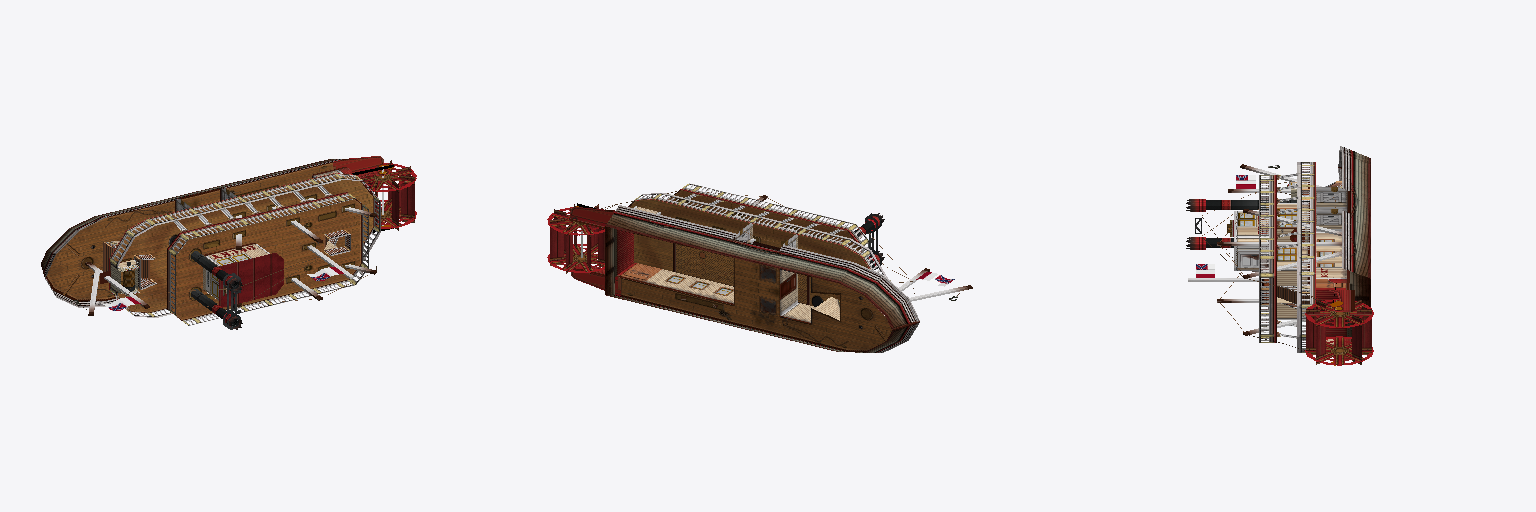
The picture shows the model from 3 angles: view 1: azimuth 30°, elevation 25°; view 2: azimuth 150°, elevation 25°; view 3: azimuth 270°, elevation 25°; orthographic projection.
Bounding box in the file's own units: 418 × 99.36 × 183.
Materials: 61 (50 with a texture image).